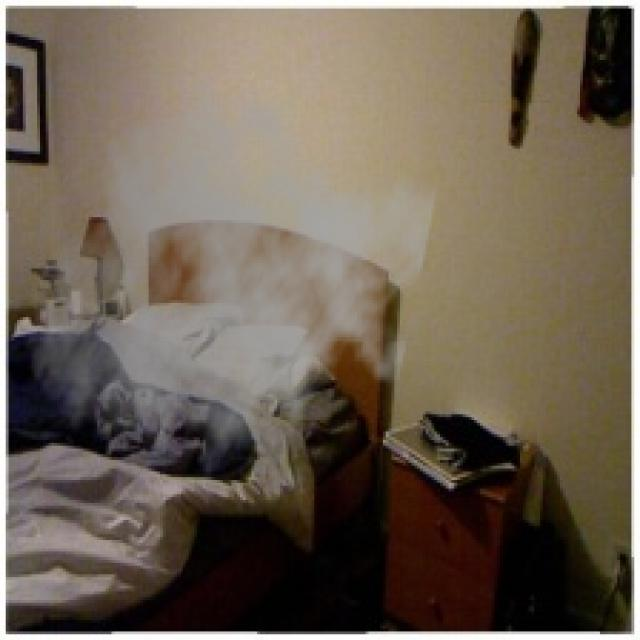smoke: (23, 72, 440, 497)
